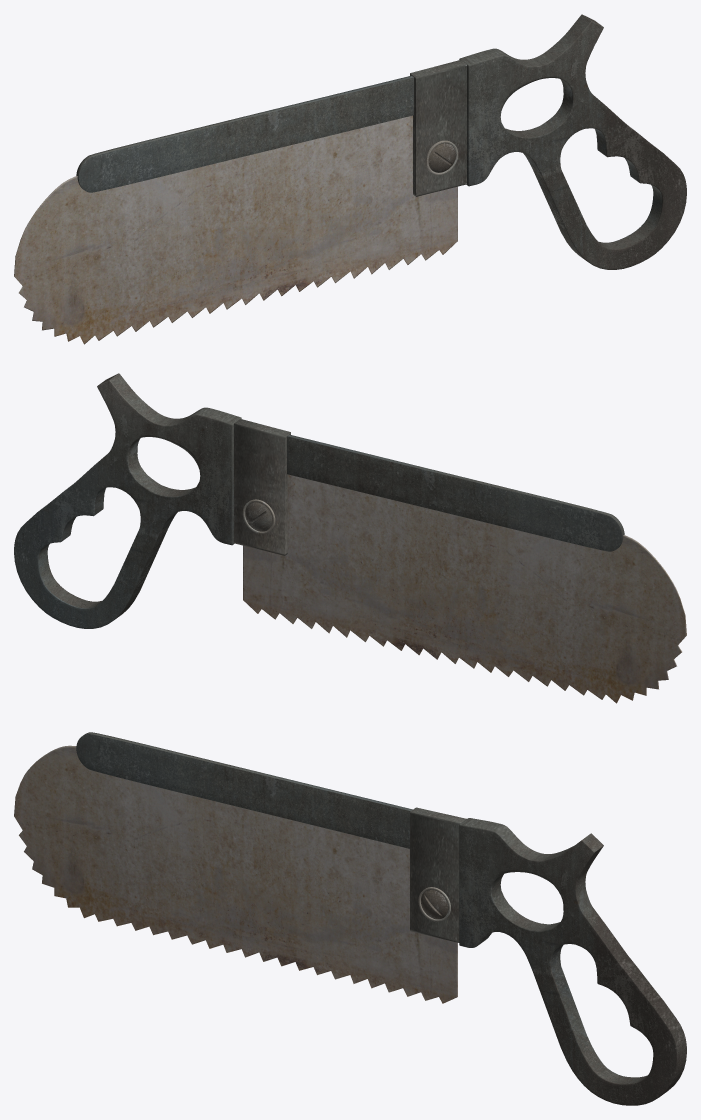
File: Bone_Saw.obj
3 renders of one model, top to bottom at view 1: azimuth 30°, elevation 25°; view 2: azimuth 150°, elevation 25°; view 3: azimuth 330°, elevation 25°, orthographic.
Parts seen in each view (by area): view 1: Bone_Saw; view 2: Bone_Saw; view 3: Bone_Saw.
Part boxes in pixels (left/top/right/bottom): Bone_Saw: left=14, top=14, right=686, bottom=344; Bone_Saw: left=14, top=373, right=686, bottom=703; Bone_Saw: left=14, top=732, right=686, bottom=1105.
Size of the model in its own units: 1.95 by 0.7124 by 0.062.
1 material, 1 textured.
